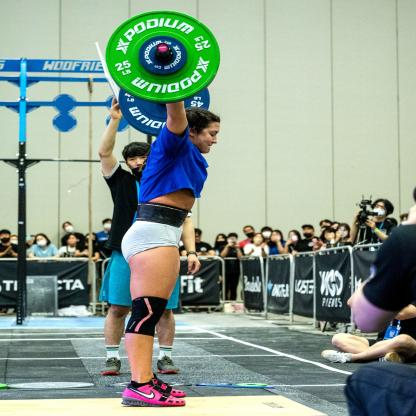barbell: (106, 11, 223, 104)
